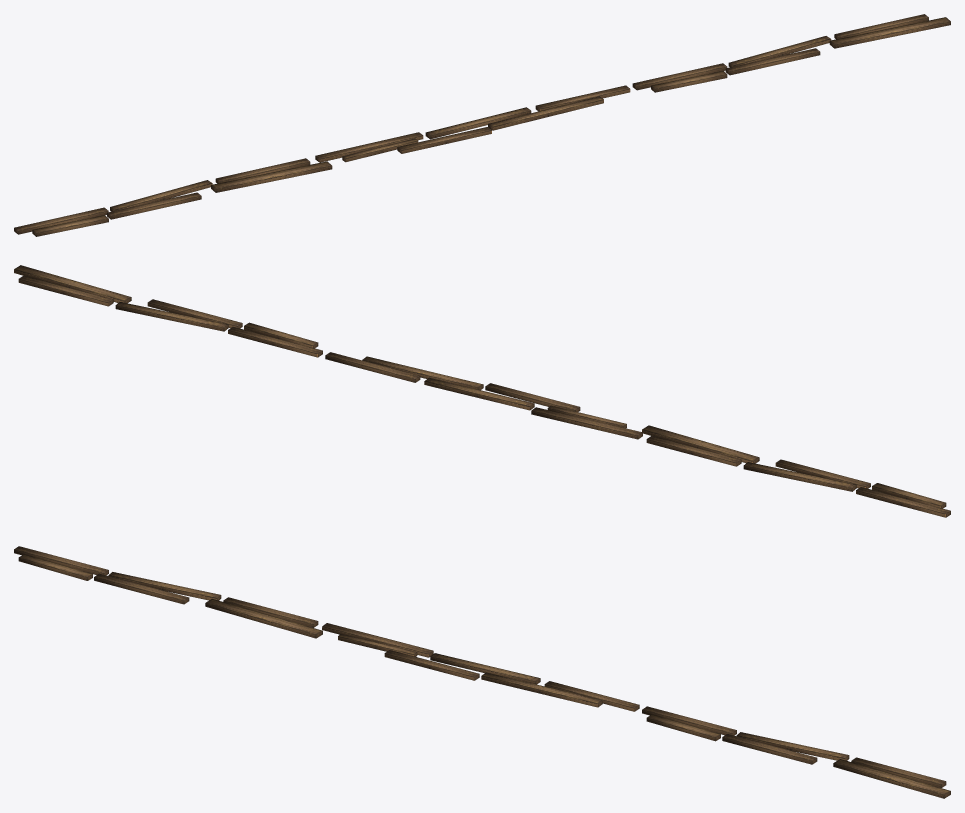
The model's file is Plank_10.FBX.
3 renders of one model, top to bottom at view 1: azimuth 30°, elevation 25°; view 2: azimuth 150°, elevation 25°; view 3: azimuth 330°, elevation 25°, orthographic. The views are drawn at different scales.
Visible parts, largest first — view 1: Plank_10; view 2: Plank_10; view 3: Plank_10.
Boxes of the visible parts, x1,y1,x2,y2 form: Plank_10: (14,14,950,236); Plank_10: (14,265,950,517); Plank_10: (14,546,950,798).
Size of the model in its own units: 28.98 by 1.29 by 0.1491.
